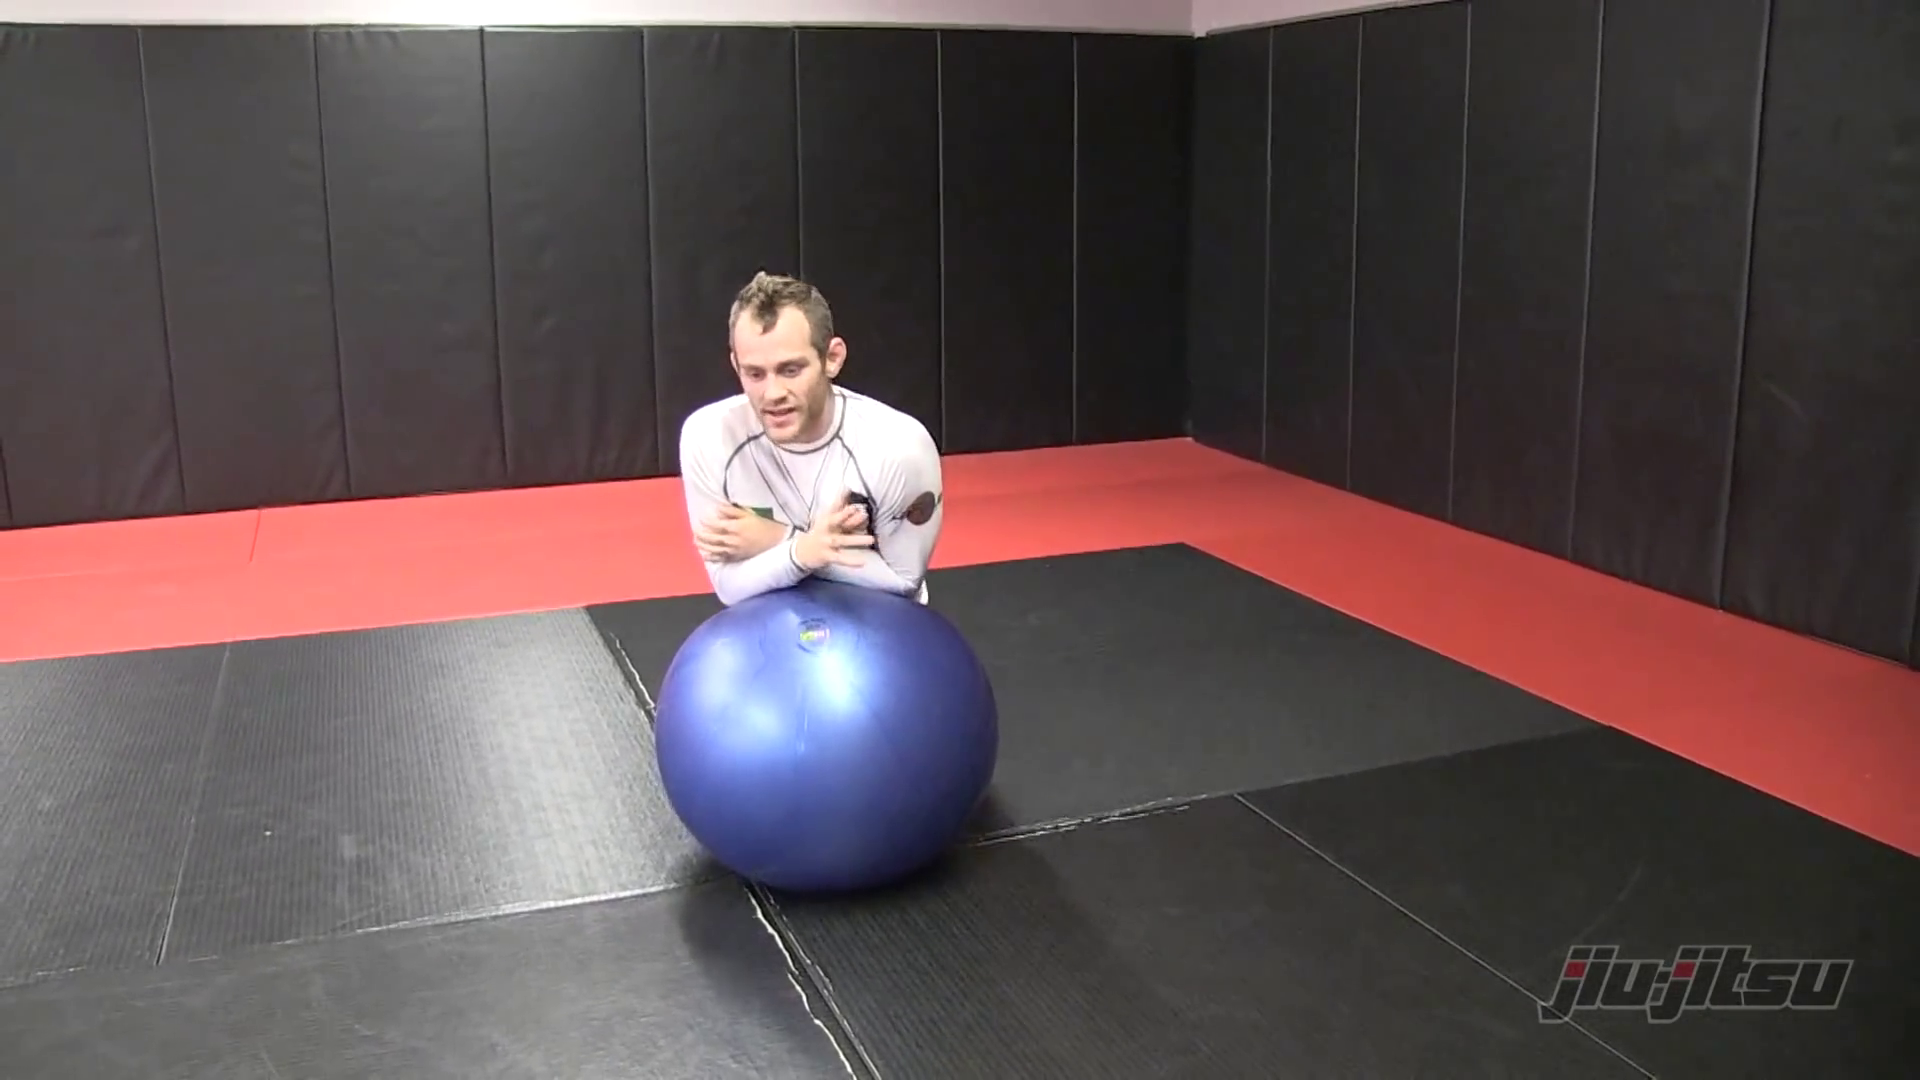yogaball: (633, 574, 1015, 922)
